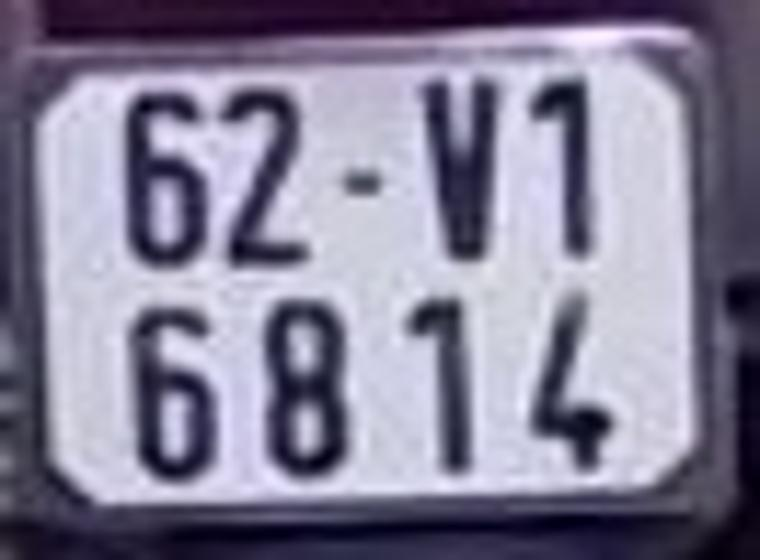-: (338, 168, 387, 196)
1: (397, 292, 477, 471), (525, 73, 598, 259)
2: (218, 87, 308, 260)
4: (527, 291, 612, 472)
6: (129, 299, 213, 476), (123, 90, 203, 263)
8: (247, 294, 348, 477)
V: (413, 71, 499, 268)
